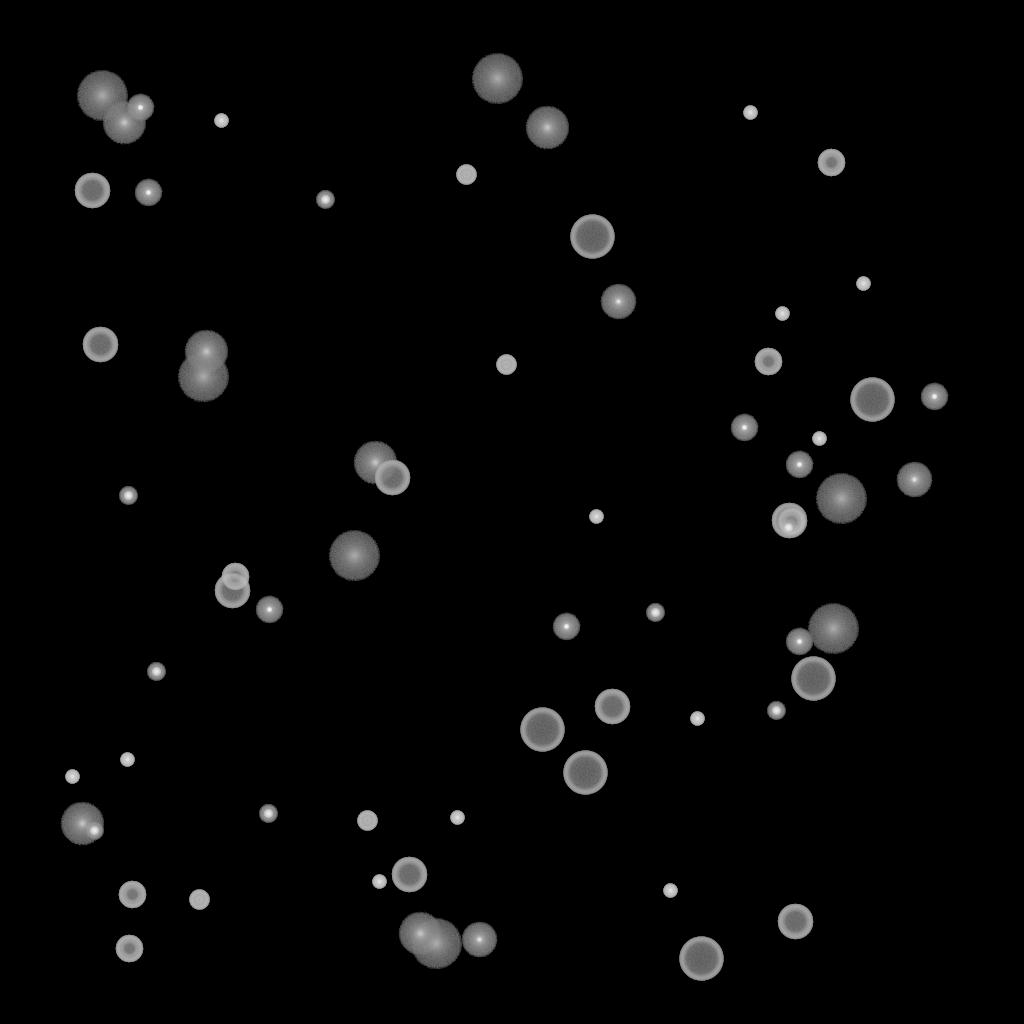depth:-10: (134, 179, 162, 207), (785, 628, 813, 656), (552, 613, 580, 641), (126, 94, 154, 122), (920, 383, 948, 411), (255, 596, 283, 624), (785, 451, 813, 479), (730, 414, 758, 442)
depth:-20: (147, 663, 165, 681), (119, 487, 137, 505), (85, 822, 103, 840), (779, 519, 797, 537), (259, 805, 277, 823), (316, 191, 334, 209), (767, 702, 785, 720), (646, 604, 664, 622)
depth:-30: (214, 114, 228, 128), (450, 811, 464, 825), (775, 307, 789, 321), (120, 753, 134, 767), (65, 770, 79, 784), (589, 510, 603, 524), (690, 712, 704, 726), (856, 277, 870, 291), (812, 432, 826, 446), (743, 106, 757, 120), (663, 884, 677, 898), (372, 875, 386, 889)
depth:-40: (456, 165, 476, 185), (189, 890, 209, 910), (357, 811, 377, 831), (496, 355, 516, 375)
depth:-50: (221, 563, 249, 591), (817, 149, 845, 177), (115, 935, 143, 963), (118, 881, 146, 909), (754, 348, 782, 376), (777, 508, 805, 536)
depth:-60: (214, 573, 250, 609), (82, 327, 118, 363), (391, 857, 427, 893), (74, 173, 110, 209), (374, 460, 410, 496), (777, 904, 813, 940), (594, 689, 630, 725), (771, 503, 807, 539)
depth:-70: (563, 751, 607, 795), (520, 708, 564, 752), (850, 378, 894, 422), (679, 937, 723, 981), (791, 657, 835, 701), (570, 215, 614, 259)
depth:0: (461, 922, 497, 958), (600, 284, 636, 320), (896, 462, 932, 498)
depth:10: (184, 330, 228, 374), (353, 441, 397, 485), (525, 106, 569, 150), (102, 101, 146, 145), (60, 802, 104, 846), (398, 912, 442, 956)
depth:20: (815, 474, 867, 524), (177, 352, 229, 402), (807, 604, 859, 654), (471, 54, 523, 104), (410, 919, 462, 969), (76, 71, 128, 121), (328, 531, 380, 581)
